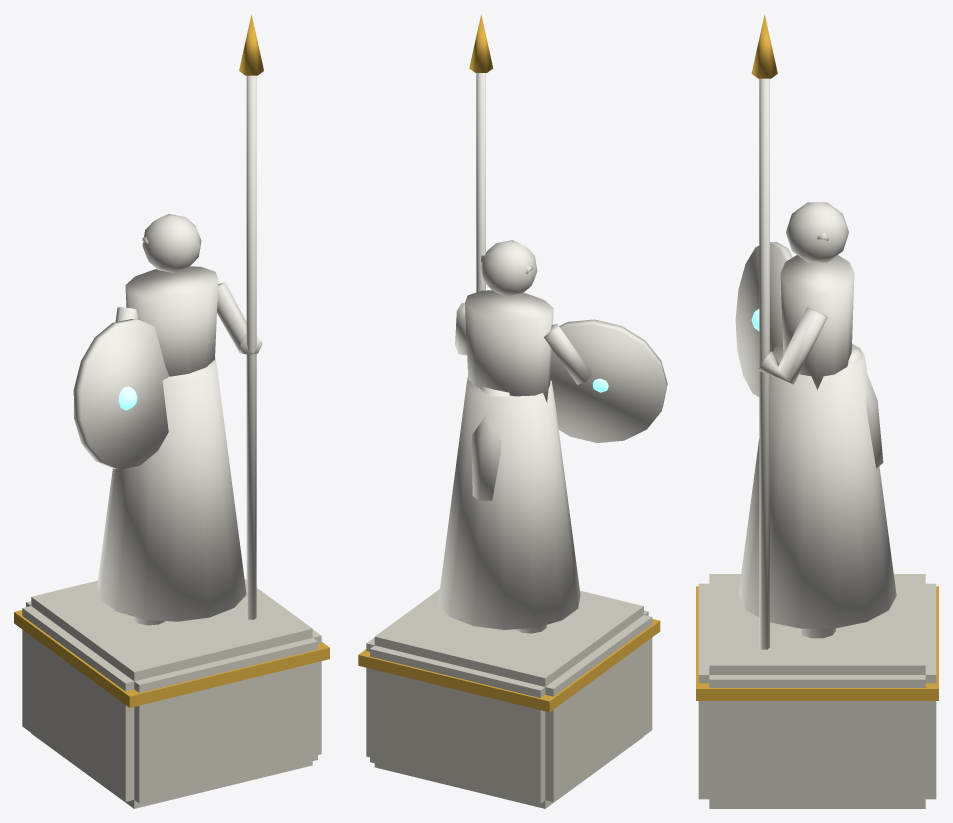
Rendered from elven-statue.glb.
The picture shows the model from 3 angles, left to right: view 1: azimuth 30°, elevation 25°; view 2: azimuth 150°, elevation 25°; view 3: azimuth 270°, elevation 25°; orthographic projection. The views are drawn at different scales.
Visible parts, largest first — view 1: Model Mesh; view 2: Model Mesh; view 3: Model Mesh.
Part boxes in pixels (x1,y1,x2,y2): Model Mesh: (14,14,329,808); Model Mesh: (358,14,667,808); Model Mesh: (696,14,938,808).
Bounding box in the file's own units: 1.06 × 3.25 × 0.92.
